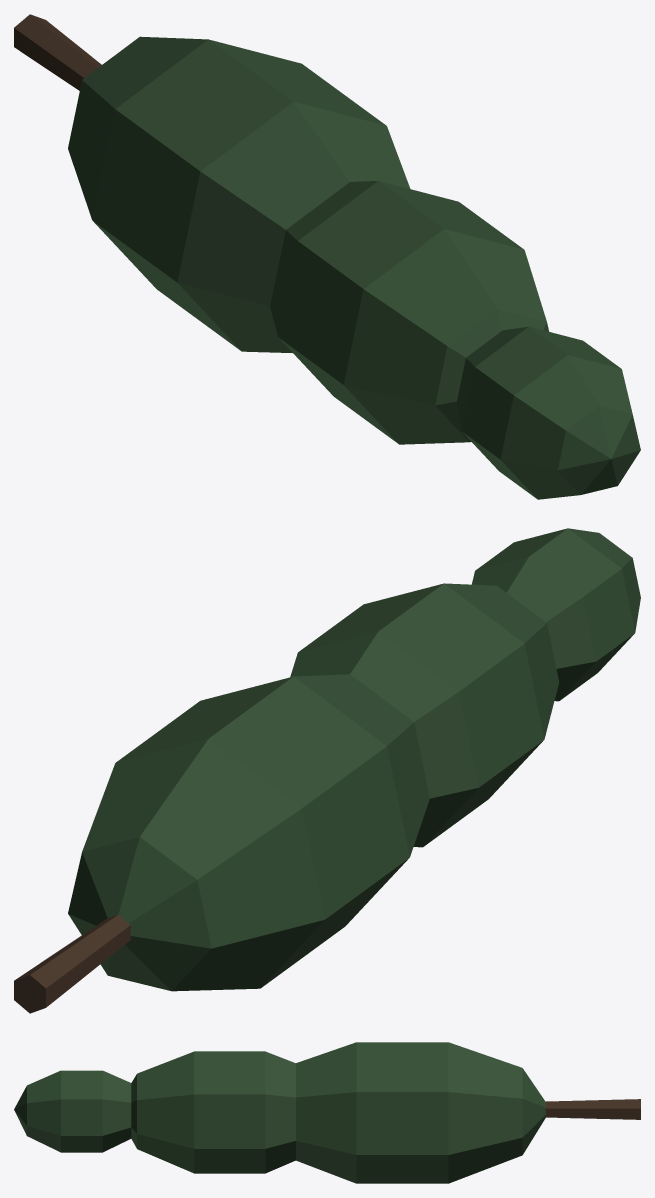
Rendered from tree-columnar.glb.
3 views of the same model, one above another, from view 1: azimuth 30°, elevation 25°; view 2: azimuth 150°, elevation 25°; view 3: azimuth 270°, elevation 25° (orthographic). The views are drawn at different scales.
Visible parts, largest first — view 1: tree-columnar; view 2: tree-columnar; view 3: tree-columnar.
Part boxes in pixels (x1=…): tree-columnar: x1=14, y1=14, x2=640, y2=499; tree-columnar: x1=14, y1=528, x2=640, y2=1013; tree-columnar: x1=14, y1=1042, x2=640, y2=1183.
Bounding box in the file's own units: 1.76 × 1.72 × 7.62.
